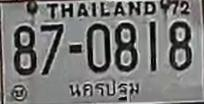0: (86, 22, 110, 72)
1: (148, 20, 156, 70)
7: (40, 23, 63, 74)
8: (13, 25, 36, 74), (168, 20, 190, 70), (114, 22, 136, 71)
NPT: (67, 76, 141, 102)
